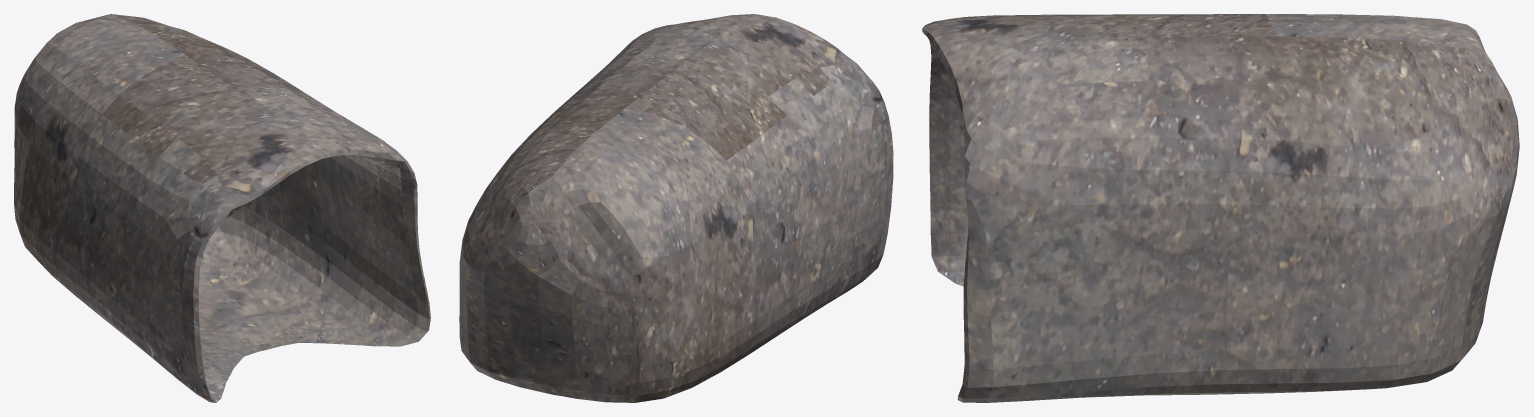
Rendered from cave.glb.
The picture shows the model from 3 angles, left to right: view 1: azimuth 30°, elevation 25°; view 2: azimuth 150°, elevation 25°; view 3: azimuth 270°, elevation 25°; orthographic projection. The views are drawn at different scales.
Visible parts, largest first — view 1: cave-col; view 2: cave-col; view 3: cave-col.
Part boxes in pixels (x1,y1,x2,y2): cave-col: (14,14,430,402); cave-col: (459,14,893,402); cave-col: (922,14,1519,402).
Bounding box in the file's own units: 2.49 × 2.2 × 3.83.
1 material, 1 textured.
